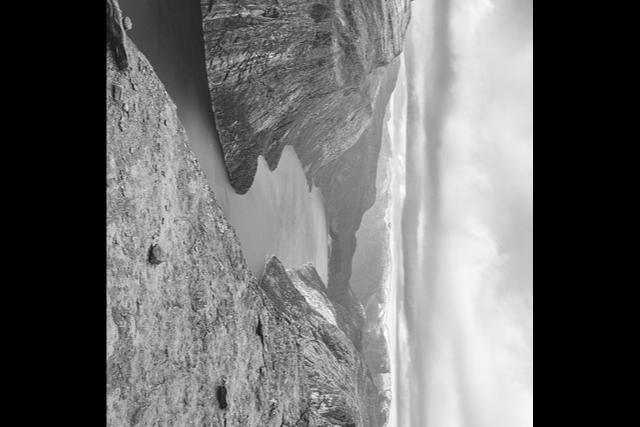Non_Gorille: (130, 0, 484, 427)
